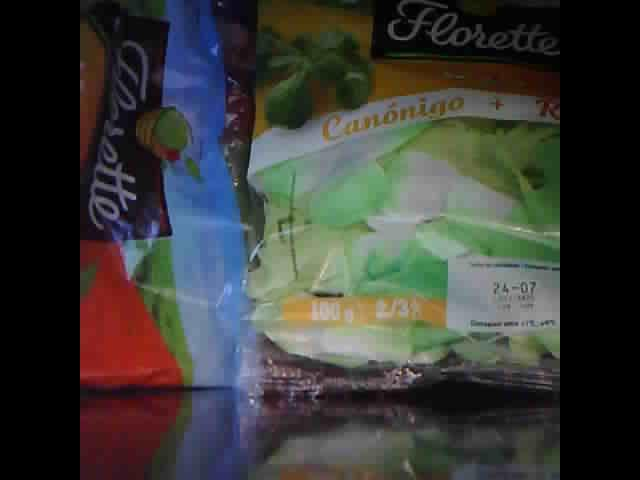florette: (234, 3, 559, 414), (82, 3, 275, 394)
